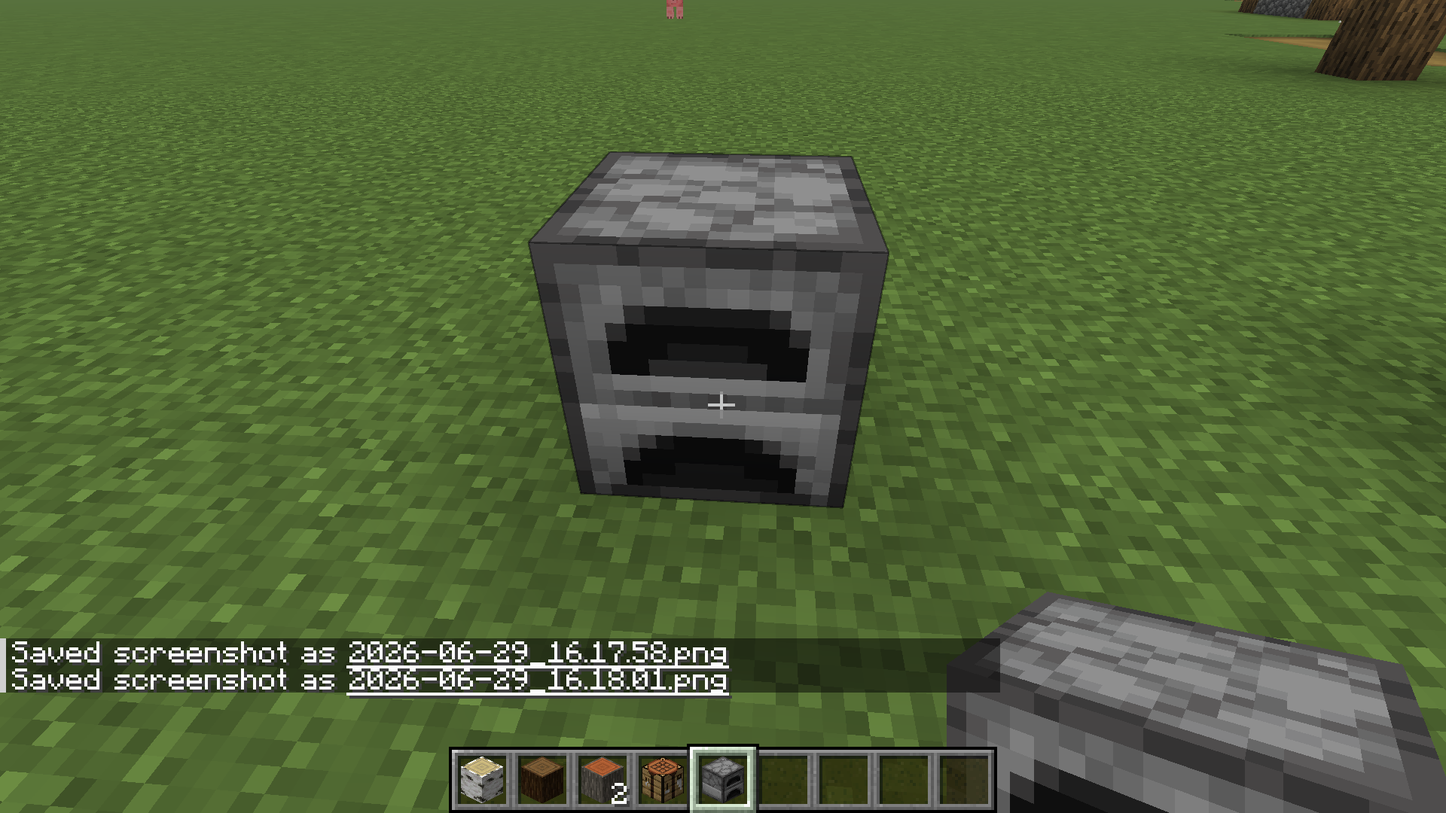stove: (535, 121, 890, 541)
